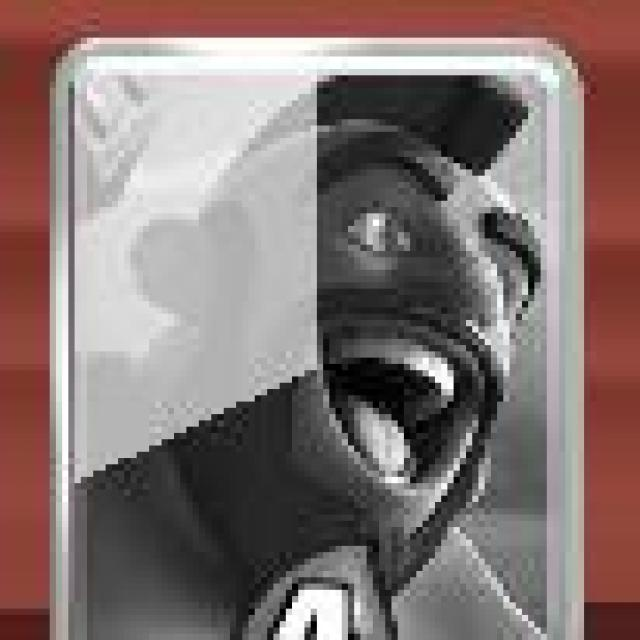Hog_Rider: (49, 31, 585, 640)
